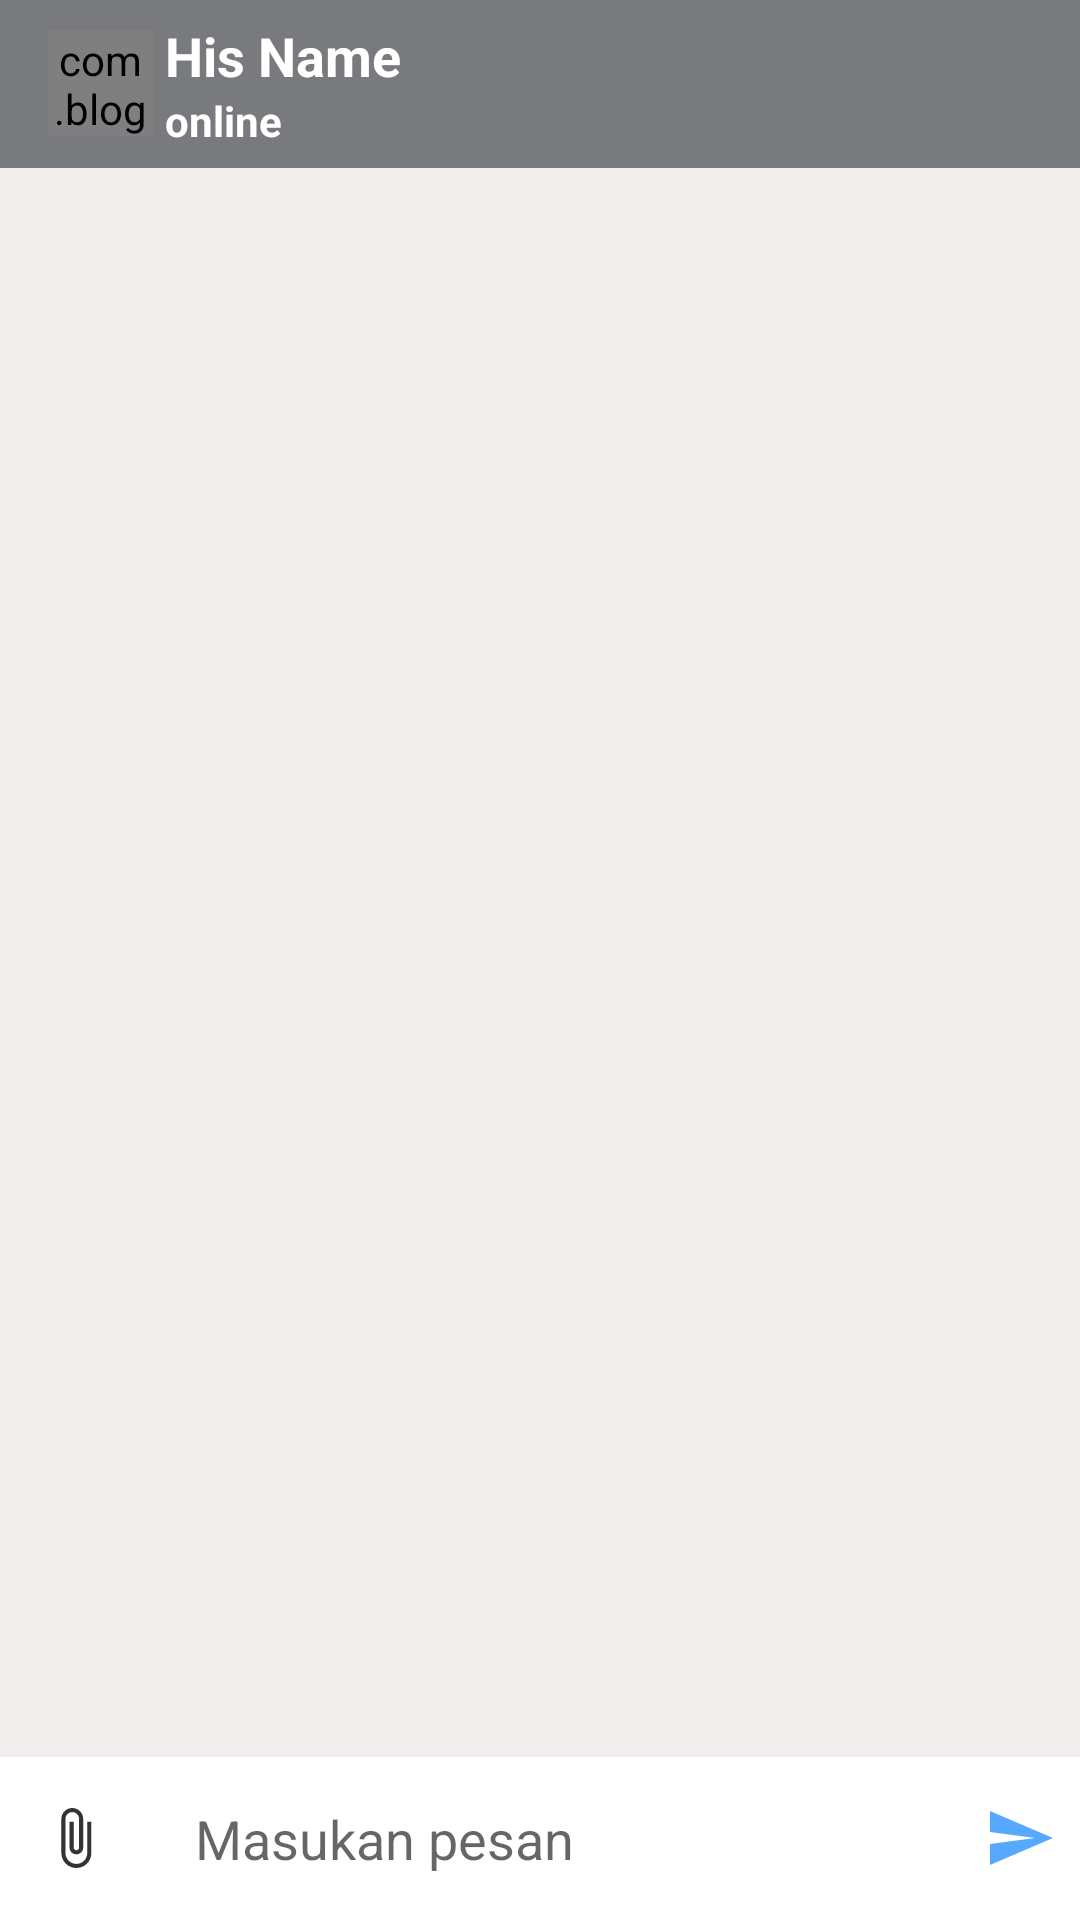

Named icons in this screenshot (1080 x 1920) and their bounding boxes, region(x1, y1, x2, y2):
attach: region(61, 1808, 92, 1868)
send: region(990, 1811, 1053, 1865)
